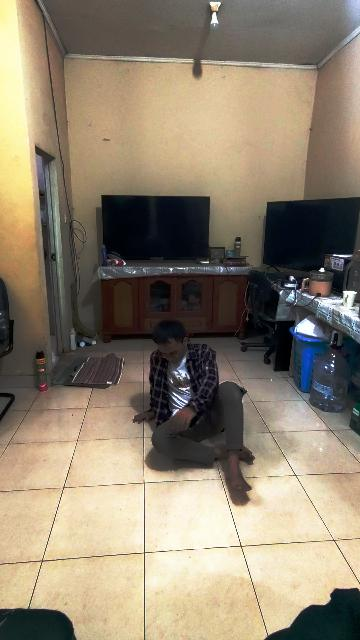jatuh: (121, 321, 259, 504)
